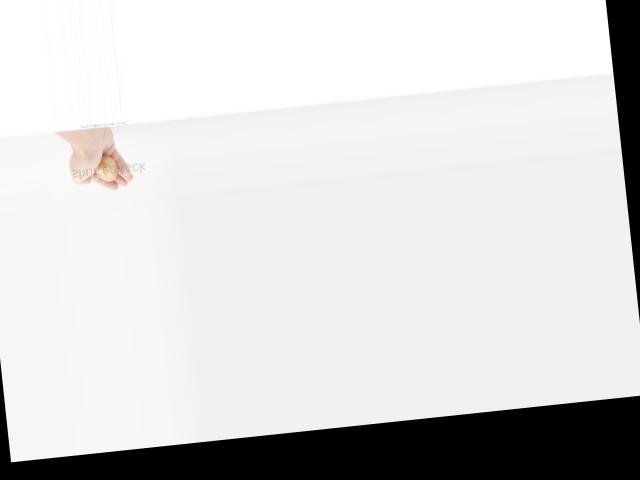egg: (95, 154, 118, 182)
